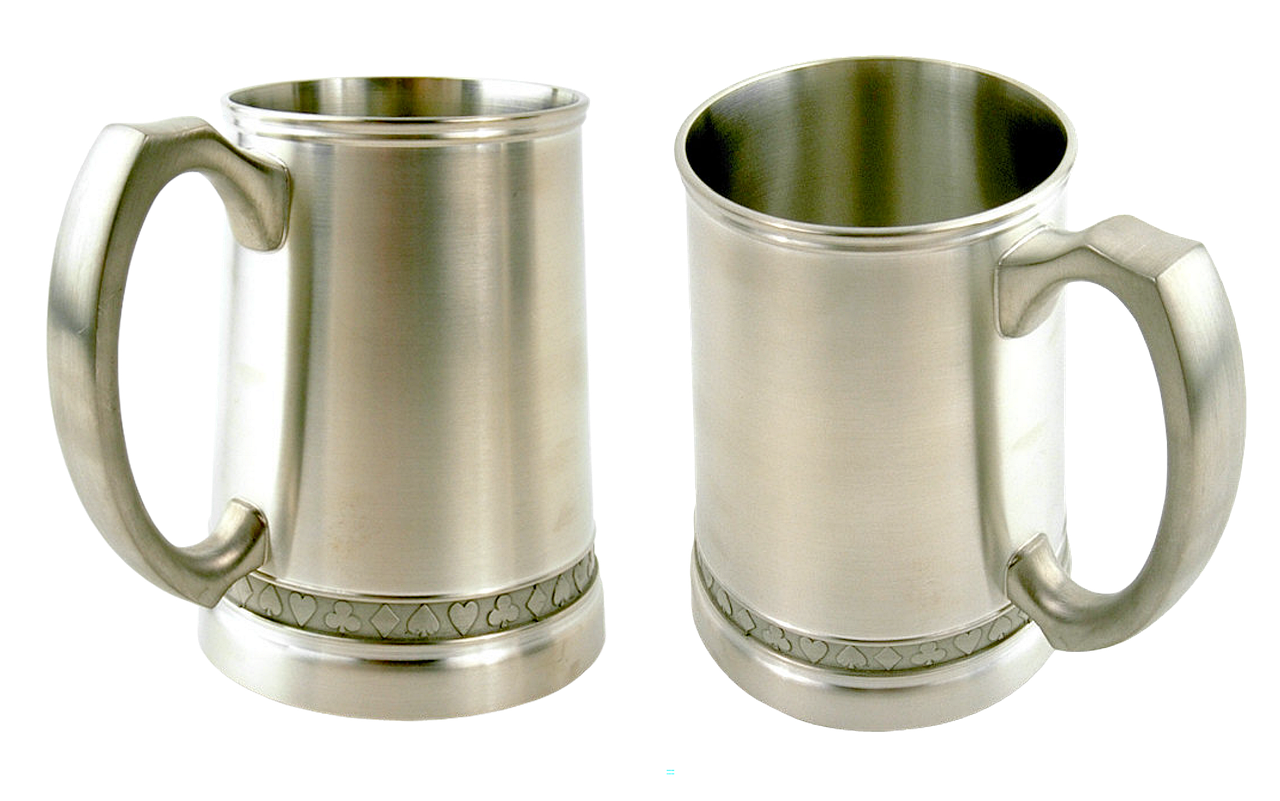mug: (640, 54, 1242, 770), (18, 45, 612, 750)
